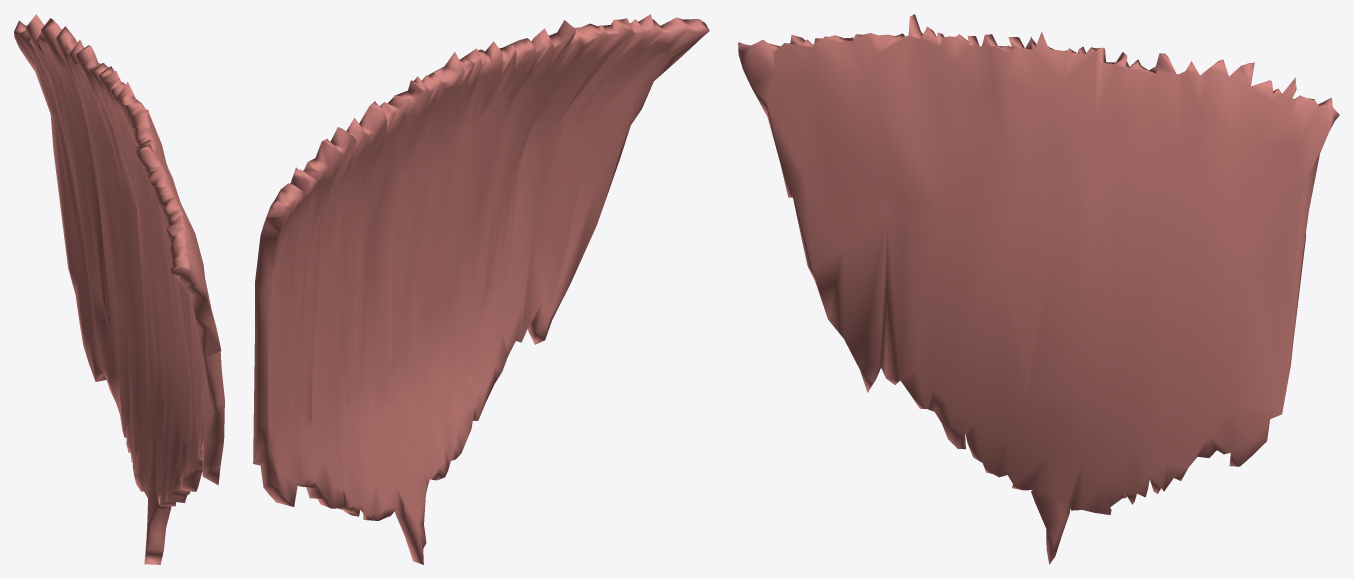
File: fma46764_mm1259.glb
3 renders of one model, left to right at view 1: azimuth 30°, elevation 25°; view 2: azimuth 150°, elevation 25°; view 3: azimuth 270°, elevation 25°, orthographic. The views are drawn at different scales.
Parts seen in each view (by area): view 1: FMA46764_MM1259; view 2: FMA46764_MM1259; view 3: FMA46764_MM1259.
Boxes of the visible parts, <box> form: FMA46764_MM1259: <box>14,14,224,564</box>; FMA46764_MM1259: <box>253,14,709,564</box>; FMA46764_MM1259: <box>738,14,1339,564</box>.
Size of the model in its own units: 0.0236 by 0.0625 by 0.0662.
